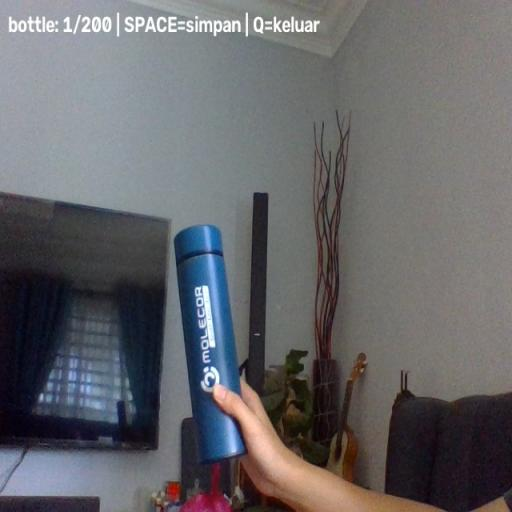Bottle: (173, 224, 246, 462)
